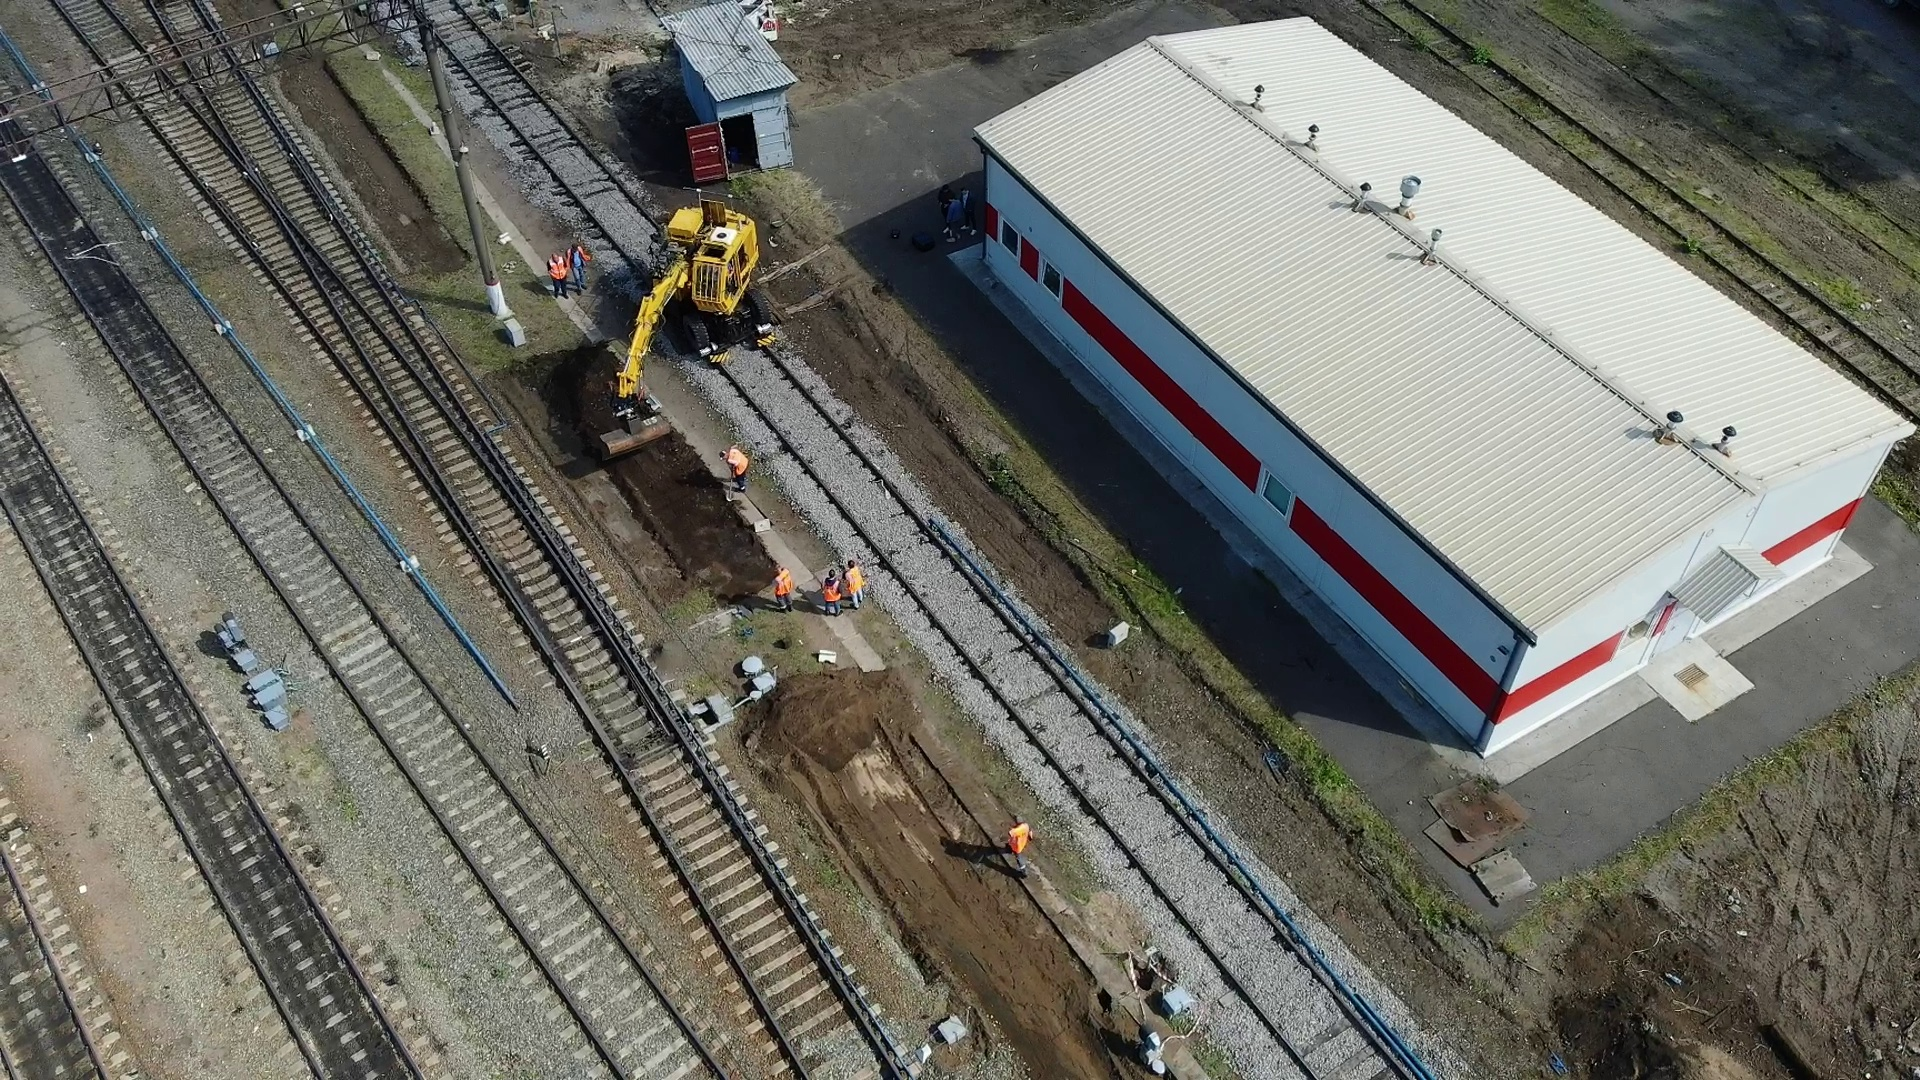kjtv: (629, 185, 773, 361)
